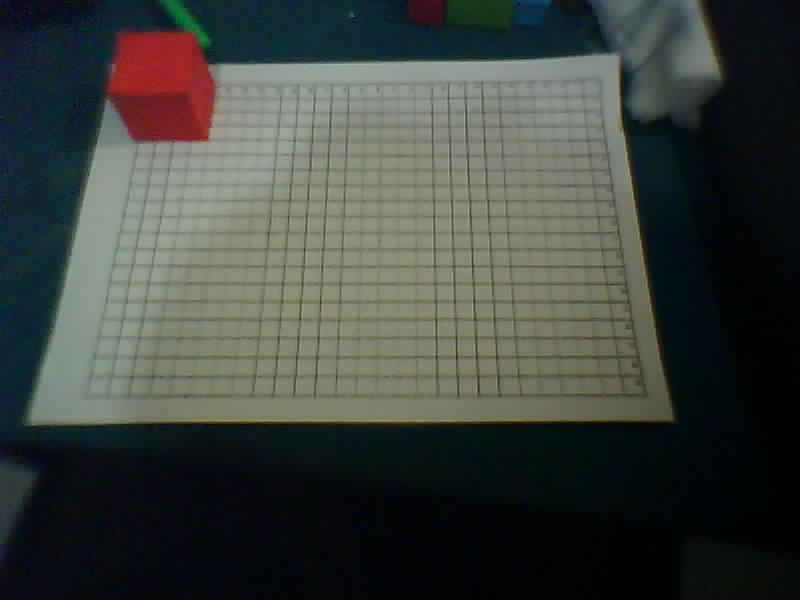red(4x4x4): (106, 19, 223, 161)
